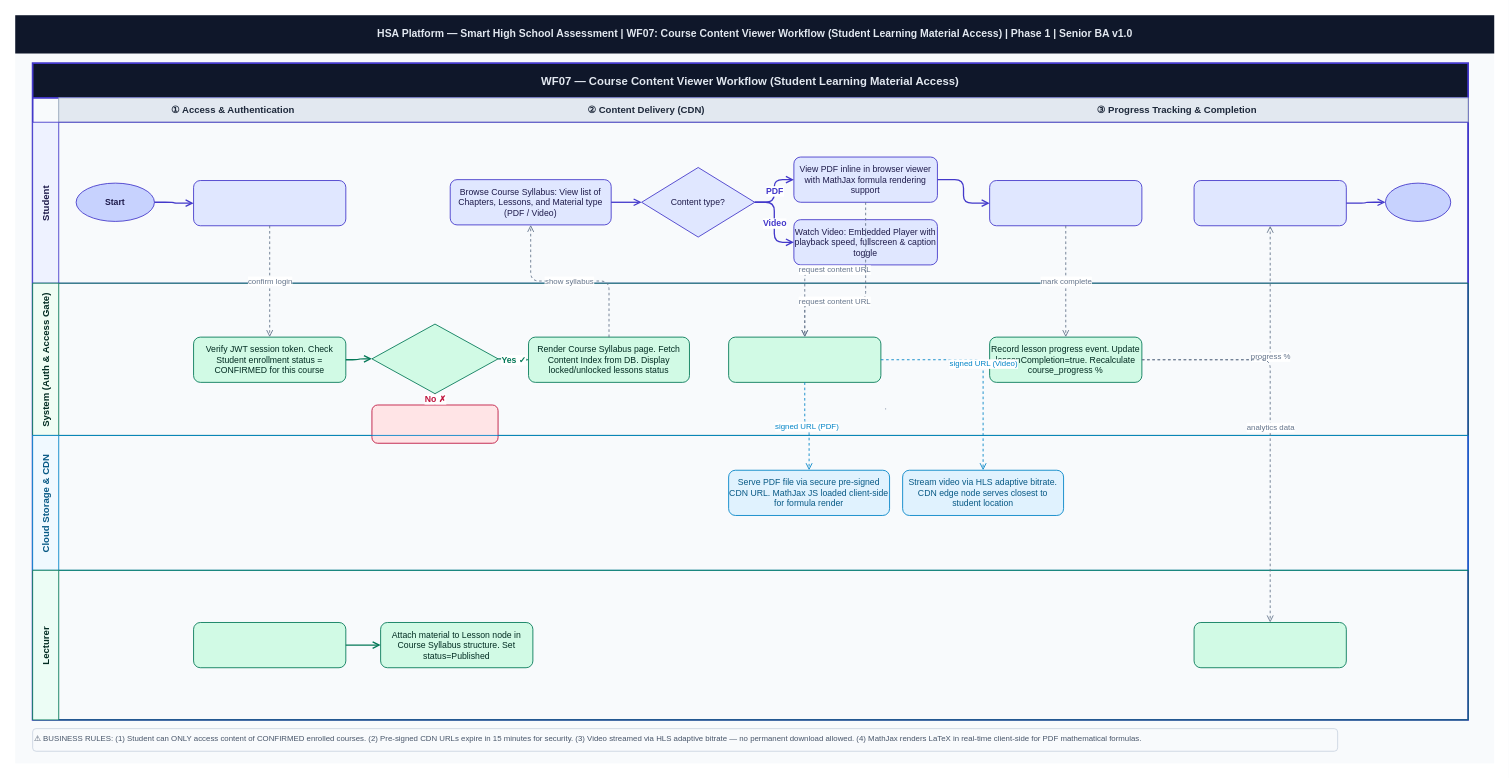
Image size: 1509x778. Some labels were removed from this diagram. The centre of each missing label's shape, as x and y in pixels:
Access Denied: Redirect to Enrollment page with error message: the point at 434,423
Enrollment CONFIRMED?: the point at 434,358
Generate pre-signed URL for content file (expires in 15min). Log access event: the point at 804,359
Login. Select enrolled course from 'My Courses' list: the point at 269,203
Mark lesson as 'Completed'. Move to next lesson or return to Syllabus: the point at 1065,203
Session End: the point at 1418,201
Upload new lecture material: PDF or Video file (via Lecturer portal): the point at 269,645
View overall course completion progress bar (%): the point at 1269,203
View per-lesson completion analytics: % of students who completed each lesson: the point at 1269,645
